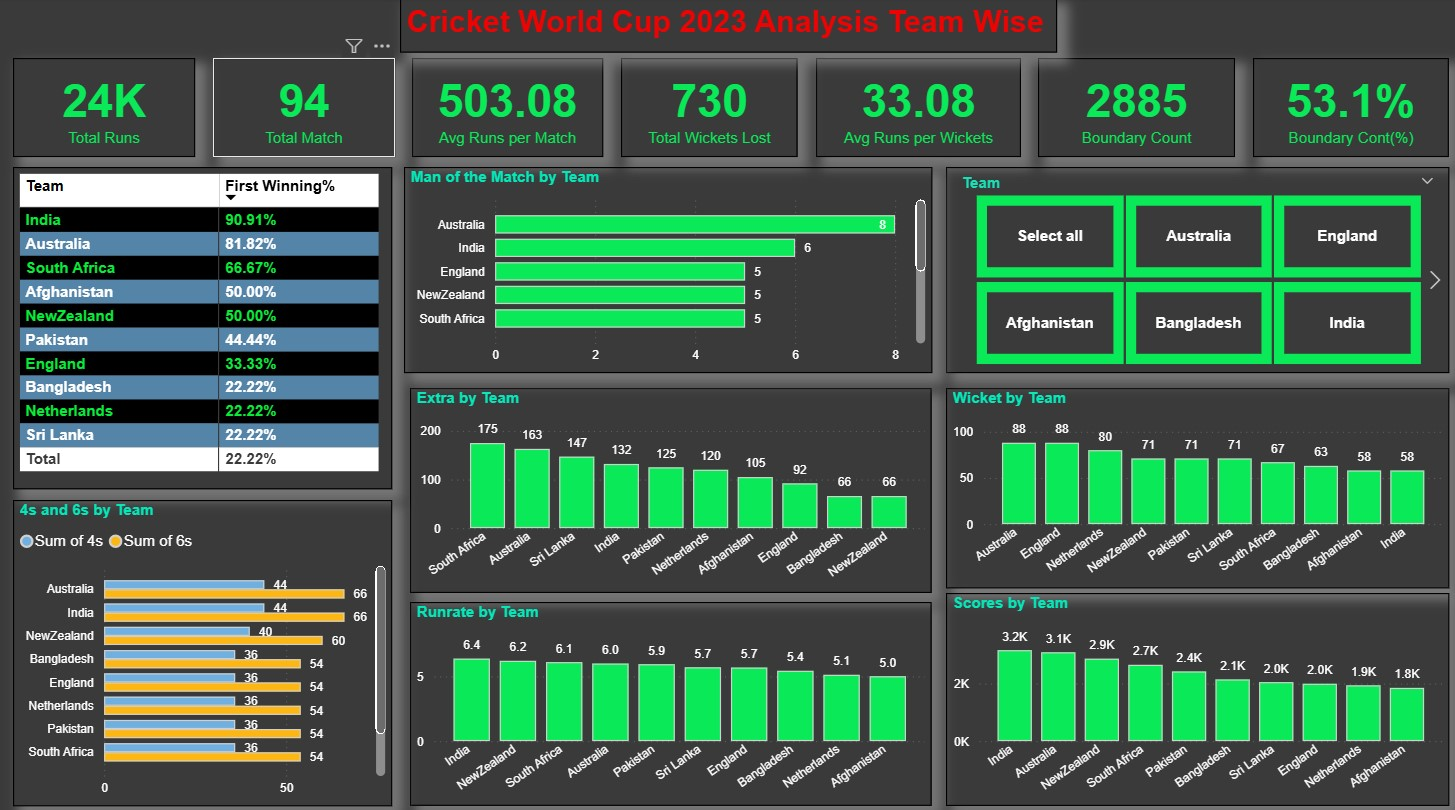

The page's visual inventory and layout, read from the dashboard file:
{"tool":"powerbi","page":{"name":"Page 1","canvas":[1280,720],"ordinal":0},"visuals":[{"type":"card","fields":{"Values":["CWC2023.Total Runs"]},"box":[11.4,52.7,159.8,86.9],"z":0},{"type":"card","fields":{"Values":["CWC2023.Average Runs per Match"]},"box":[361.8,52.7,167.7,86.9],"z":1},{"type":"card","fields":{"Values":["CWC2023.Avg Runs per Wickets"]},"box":[716.5,52.7,180,86.9],"z":2},{"type":"card","fields":{"Values":["CWC2023.Boundary Count"]},"box":[911.4,52.7,173,86.9],"z":3},{"type":"card","fields":{"Values":["CWC2023.Boundary Contribution %"]},"box":[1100.2,52.7,172.1,86.9],"z":4},{"type":"card","fields":{"Values":["CWC2023.Total Wickets Lost"]},"box":[545.3,52.7,155.4,86.9],"z":5},{"type":"card","fields":{"Values":["CWC2023.Total Match"]},"box":[187,52.7,159.8,86.9],"z":6},{"type":"pivotTable","fields":{"Values":["win%.Winning%"],"Rows":["win%.Team"]},"box":[11.4,148.4,332.8,300.3],"z":7},{"type":"columnChart","title":"Extra by Team","fields":{"Category":["Overview.Team"],"Y":["Overview.Extra"]},"box":[360,342.4,458.3,180],"z":8},{"type":"columnChart","title":"Wicket by Team","fields":{"Category":["Overview.Team"],"Y":["Overview.Wicket"]},"box":[830.6,342.4,441.7,176.5],"z":9},{"type":"columnChart","title":"Runrate by Team","fields":{"Category":["Overview.Team"],"Y":["Overview.Runrate"]},"box":[360,530.3,458.3,179.1],"z":10},{"type":"columnChart","title":"Scores by Team","fields":{"Category":["Overview.Team"],"Y":["Overview.Scores"]},"box":[830.6,522.4,441.7,187],"z":11},{"type":"clusteredBarChart","title":" 4s and 6s by Team","fields":{"Category":["Overview.Team"],"Y":["Overview.4s","Overview.6s"]},"box":[11.4,454.8,332.8,254.6],"z":12},{"type":"slicer","fields":{"Values":["Overview.Team"]},"box":[830.6,148.4,441.7,180.9],"z":13},{"type":"clusteredBarChart","title":"Man of the Match by Team","fields":{"Category":["Overview.Team"],"Y":["CWC2023.Man of the Match"]},"box":[354.7,148.4,458.3,180.9],"z":14},{"type":"textbox","box":[351.2,0,576.9,48.3],"z":15}]}

Visuals, with their boxes on the page's 1280x720 design canvas (x1, y1, x2, y2). These are canvas units, not pixel positions in the 1455x810 screenshot, which may show the page scaled, cropped or inside an application window:
card - CWC2023.Total Runs: pyautogui.locateOnScreen(11, 53, 171, 140)
card - CWC2023.Average Runs per Match: pyautogui.locateOnScreen(362, 53, 530, 140)
card - CWC2023.Avg Runs per Wickets: pyautogui.locateOnScreen(716, 53, 896, 140)
card - CWC2023.Boundary Count: pyautogui.locateOnScreen(911, 53, 1084, 140)
card - CWC2023.Boundary Contribution %: pyautogui.locateOnScreen(1100, 53, 1272, 140)
card - CWC2023.Total Wickets Lost: pyautogui.locateOnScreen(545, 53, 701, 140)
card - CWC2023.Total Match: pyautogui.locateOnScreen(187, 53, 347, 140)
pivotTable - win%.Winning% x win%.Team: pyautogui.locateOnScreen(11, 148, 344, 449)
"Extra by Team" columnChart: pyautogui.locateOnScreen(360, 342, 818, 522)
"Wicket by Team" columnChart: pyautogui.locateOnScreen(831, 342, 1272, 519)
"Runrate by Team" columnChart: pyautogui.locateOnScreen(360, 530, 818, 709)
"Scores by Team" columnChart: pyautogui.locateOnScreen(831, 522, 1272, 709)
" 4s and 6s by Team" clusteredBarChart: pyautogui.locateOnScreen(11, 455, 344, 709)
slicer - Overview.Team: pyautogui.locateOnScreen(831, 148, 1272, 329)
"Man of the Match by Team" clusteredBarChart: pyautogui.locateOnScreen(355, 148, 813, 329)
textbox: pyautogui.locateOnScreen(351, 0, 928, 48)
